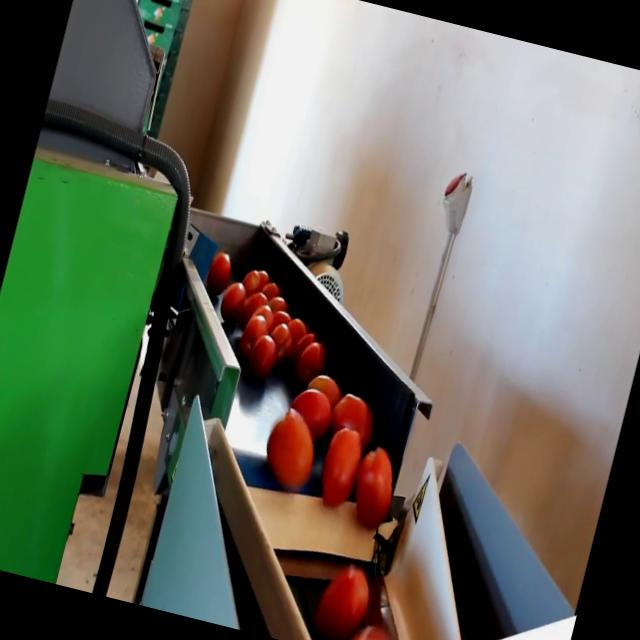Tomato: (258, 408, 322, 488), (309, 563, 372, 640), (316, 425, 368, 516), (348, 441, 402, 526), (288, 385, 336, 436), (332, 396, 377, 438), (294, 338, 332, 386), (217, 276, 251, 324), (203, 250, 234, 297), (308, 371, 343, 406), (240, 313, 270, 352), (248, 337, 280, 373), (266, 321, 294, 357), (344, 624, 400, 640), (293, 328, 320, 358), (282, 313, 304, 340), (246, 288, 267, 312), (268, 293, 290, 314), (248, 268, 268, 288)
